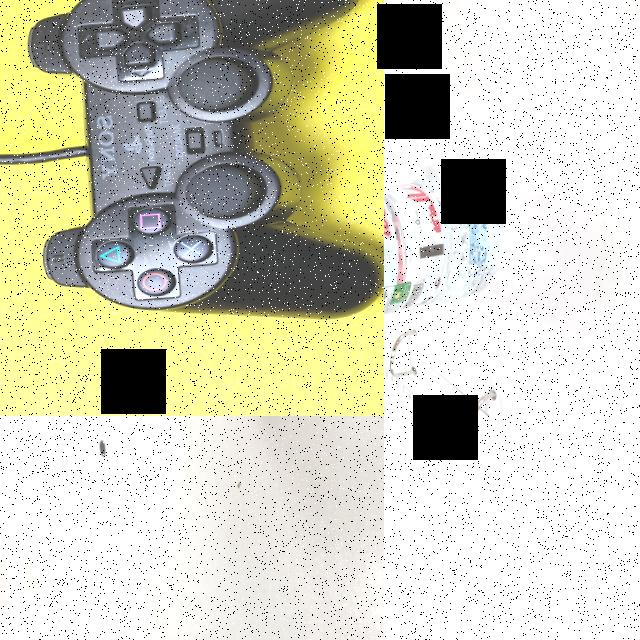bottle: (384, 157, 505, 345)
